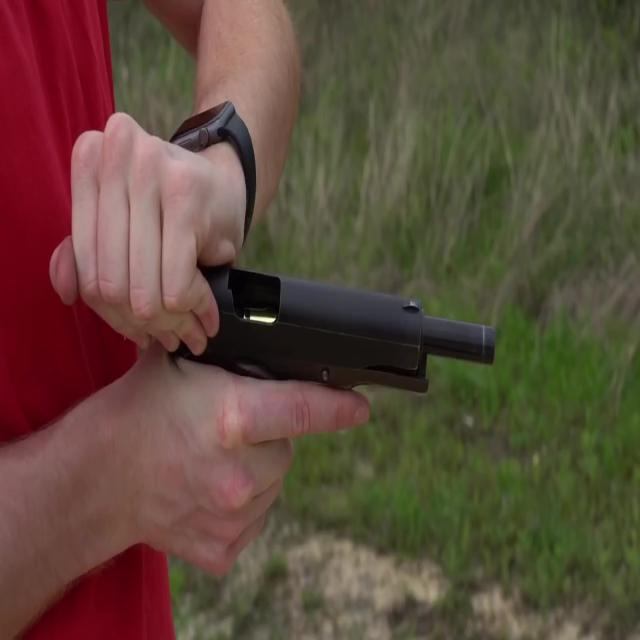Weapon: (109, 130, 517, 505)
